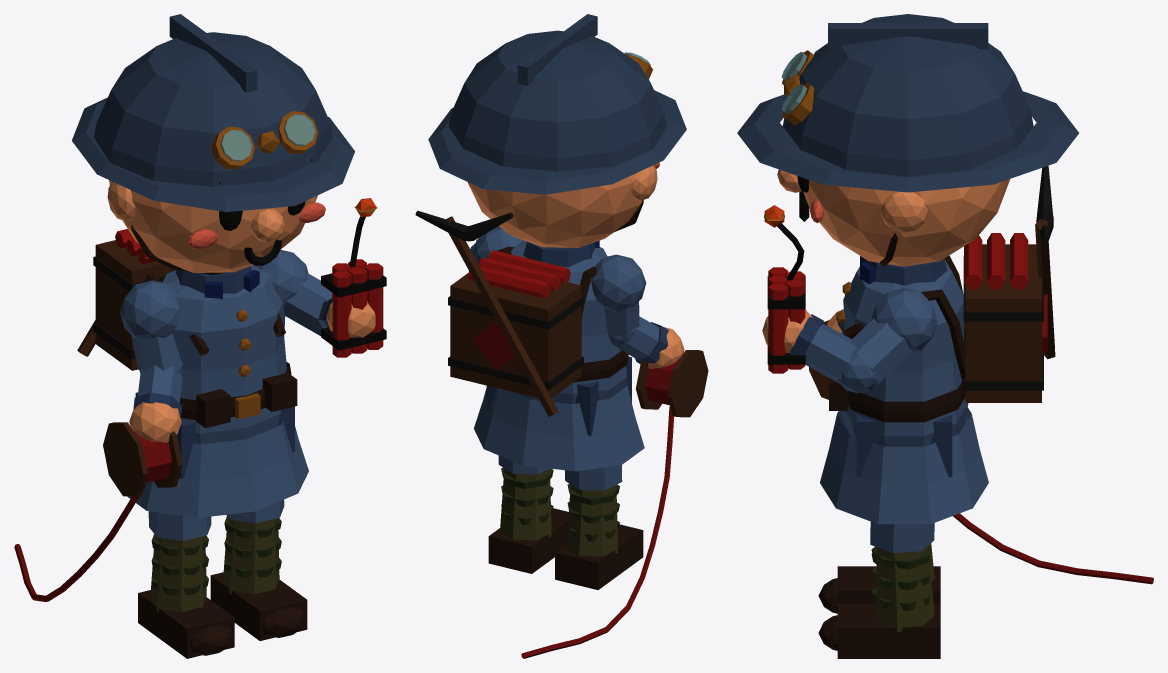
Rendered from Zapador_CascoAdrian.obj.
The picture shows the model from 3 angles, left to right: view 1: azimuth 30°, elevation 25°; view 2: azimuth 150°, elevation 25°; view 3: azimuth 270°, elevation 25°; orthographic projection. The views are drawn at different scales.
Visible parts, largest first — view 1: Cuerpo, Pierna_I, Pierna_D; view 2: Cuerpo, Pierna_I, Pierna_D; view 3: Cuerpo, Pierna_D, Pierna_I.
Part boxes in pixels (box(x1,y1,x2,y2)): Cuerpo: box(14, 14, 386, 601); Pierna_I: box(138, 511, 234, 658); Pierna_D: box(210, 499, 307, 640); Cuerpo: box(415, 14, 708, 658); Pierna_I: box(555, 465, 643, 589); Pierna_D: box(488, 455, 568, 573); Cuerpo: box(737, 14, 1153, 584); Pierna_D: box(818, 521, 940, 658); Pierna_I: box(818, 543, 940, 613).
Size of the model in its own units: 0.7706 by 1.75 by 1.09.
